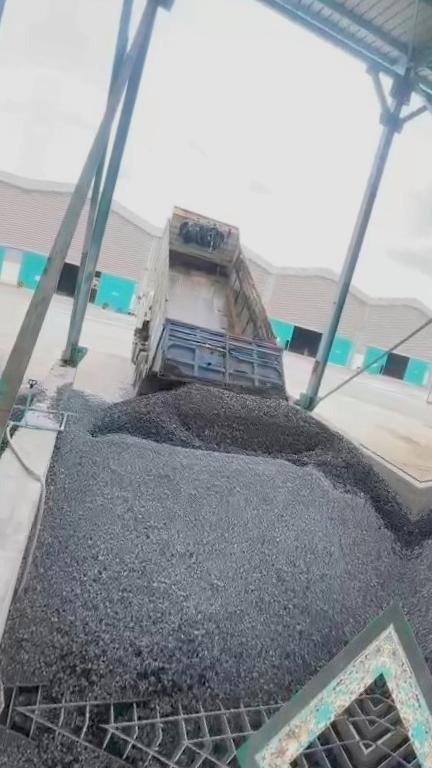gravel: (1, 380, 406, 707), (91, 385, 411, 543), (160, 364, 288, 399)
sand: (382, 427, 428, 481)
